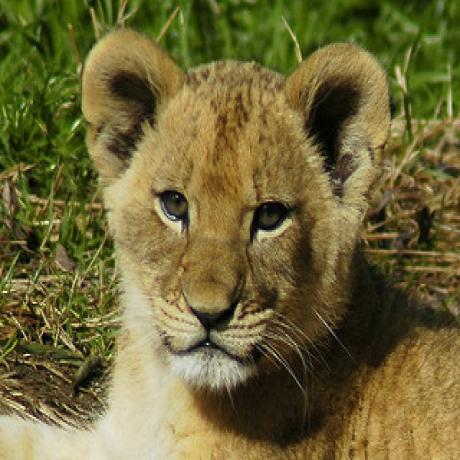Lion: (77, 27, 460, 460)
